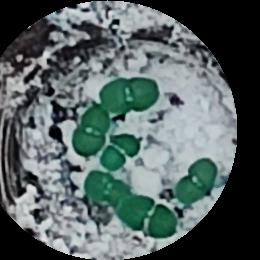Basil: (119, 201, 175, 236), (104, 77, 159, 111), (177, 158, 216, 204), (83, 168, 132, 203), (73, 104, 106, 154), (105, 131, 138, 170)
